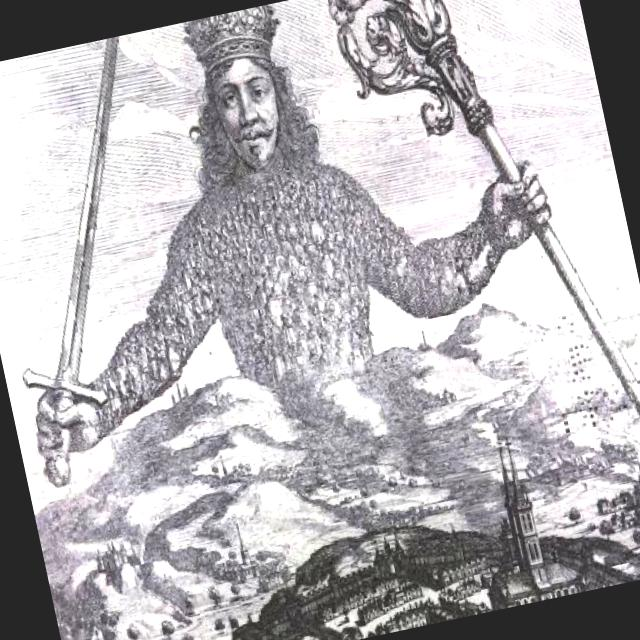Person: (3, 0, 607, 544)
